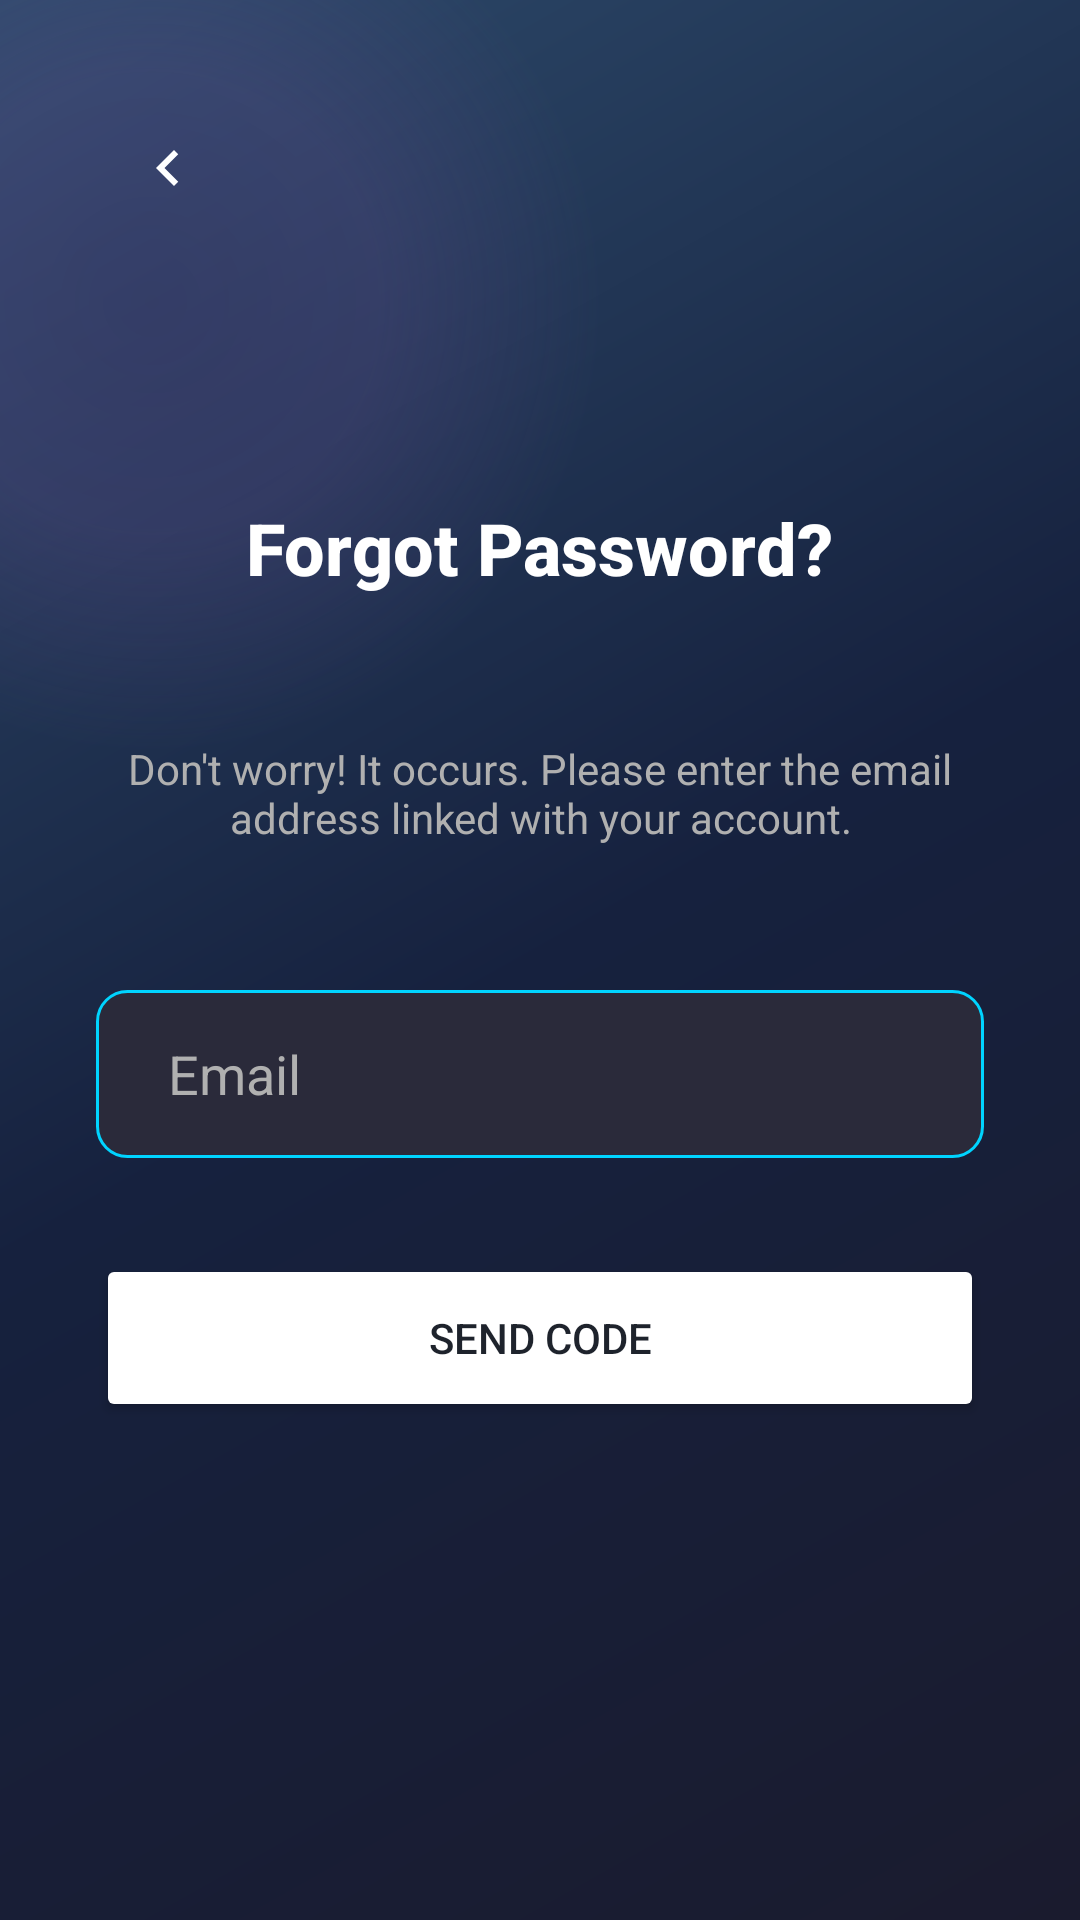

Screen size 1080w x 1920h. Icon name, then its center in pixels as (x=x, y=y):
Back: (x=167, y=168)
